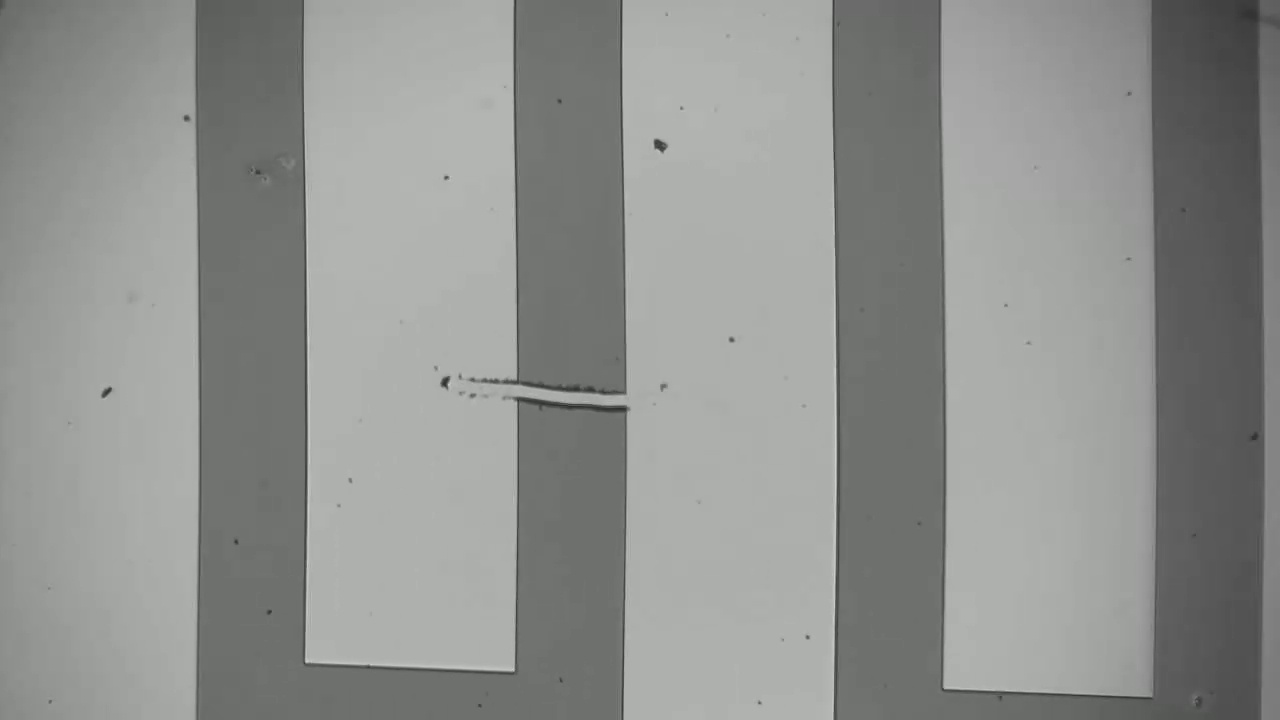Short_circuit: (468, 351, 650, 443)
